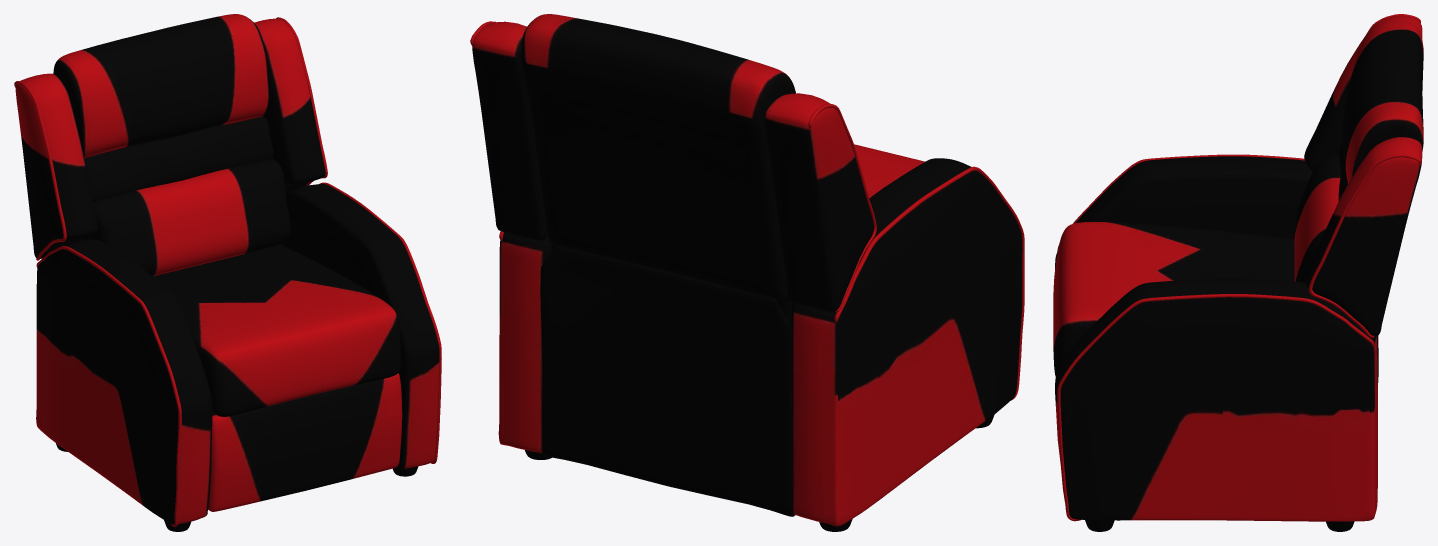
Rendered from abo-B07TJWWPJS.glb.
3 views of the same model, side by side, from view 1: azimuth 30°, elevation 25°; view 2: azimuth 150°, elevation 25°; view 3: azimuth 270°, elevation 25° (orthographic). The views are drawn at different scales.
Size of the model in its own units: 0.62 by 0.8048 by 0.672.
1 material, 1 textured.
